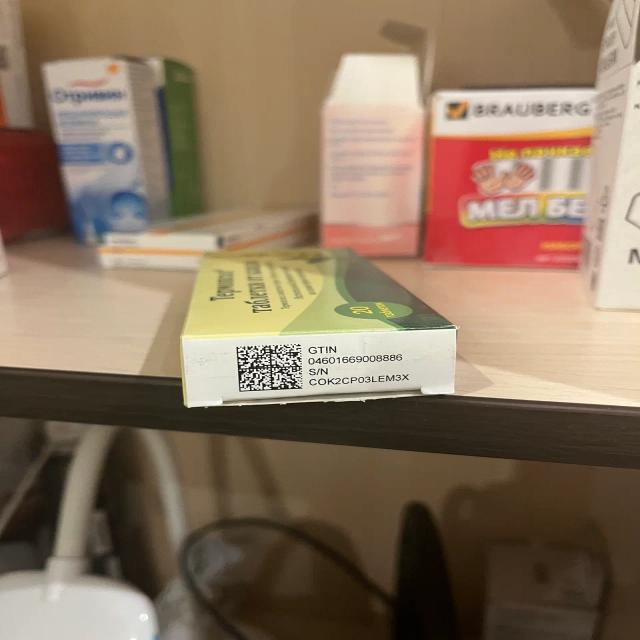datamatrix: (235, 344, 308, 394)
